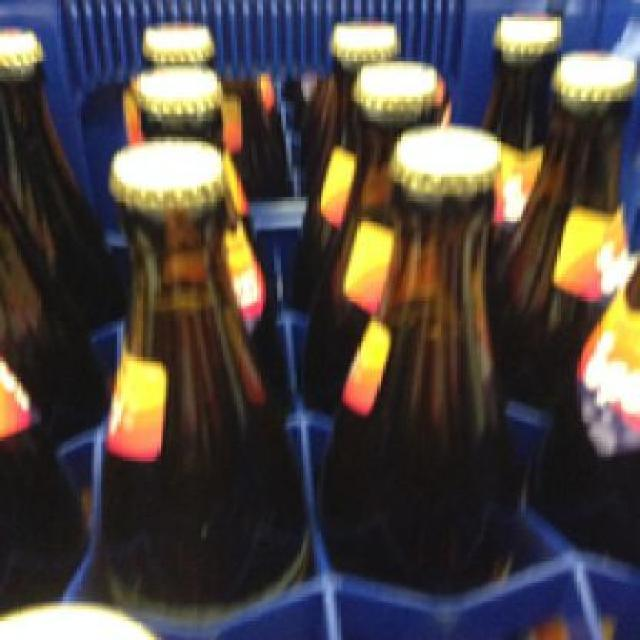Soda: (100, 131, 306, 620), (320, 119, 517, 592)
